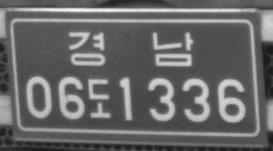0: (25, 74, 53, 120)
1: (116, 76, 139, 121)
3: (181, 76, 211, 123), (147, 77, 177, 122)
6: (216, 77, 246, 124), (57, 76, 85, 120)
경남_D: (67, 30, 194, 69)
도: (87, 77, 112, 119)
